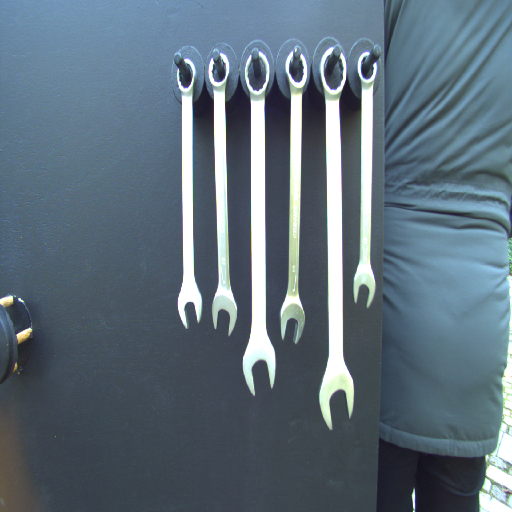bottom: (318, 363, 356, 431), (242, 336, 276, 395), (174, 281, 205, 330), (278, 293, 305, 346), (210, 289, 237, 339), (351, 263, 378, 309)
top: (319, 45, 349, 99), (243, 48, 271, 101), (284, 45, 309, 96), (205, 50, 232, 95), (174, 57, 200, 98), (356, 50, 379, 91)
